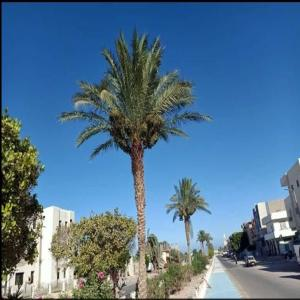palm tree: (56, 24, 213, 298), (165, 176, 211, 265)
